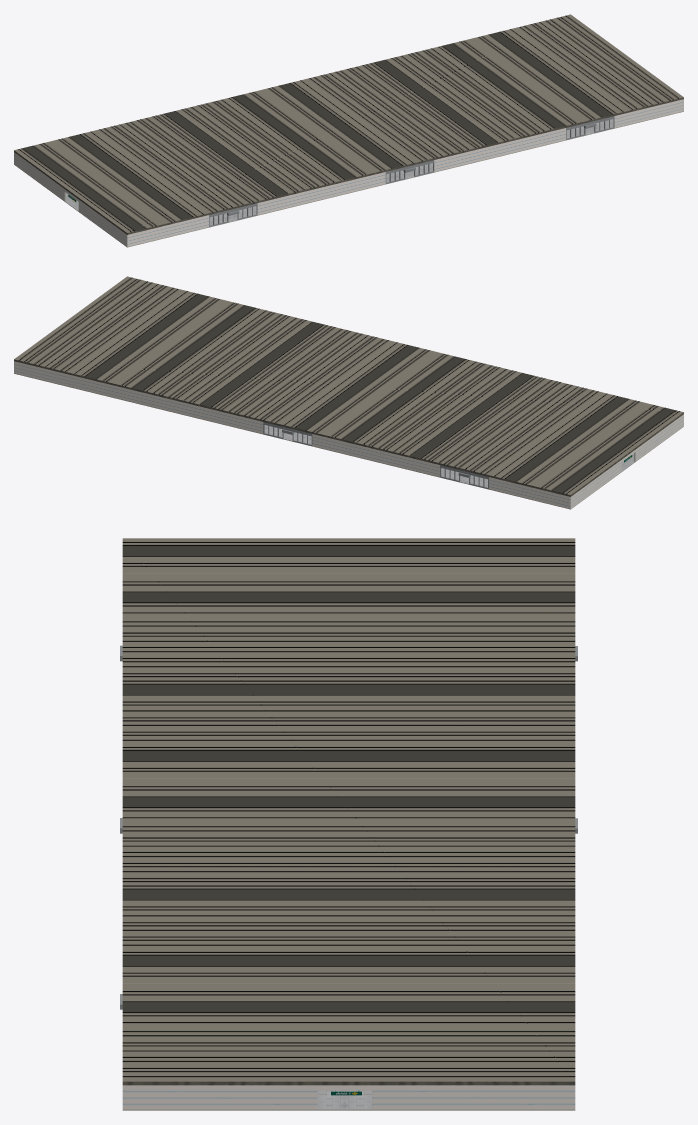
File: WITH.obj
The picture shows the model from 3 angles, top to bottom: view 1: azimuth 30°, elevation 25°; view 2: azimuth 150°, elevation 25°; view 3: azimuth 270°, elevation 25°; orthographic projection. The views are drawn at different scales.
Parts seen in each view (by area): view 1: Mesh230 Component_13_1 Model, Mesh224 Component_12_1 Model, Mesh375 Component_21_1 Model, Mesh371 Component_20_1 Model, Mesh373 Component_19_1 Model, Mesh369 Component_22_1 Model, Mesh219 Component_15_1 Model, Mesh221 Component_2_1 Model; view 2: Mesh230 Component_13_1 Model, Mesh361 Component_23_1 Model, Mesh363 Component_14_1 Model, Mesh224 Component_12_1 Model, Mesh365 Component_18_1 Model, Mesh367 Component_11_1 Model, Mesh219 Component_15_1 Model, Mesh221 Component_2_1 Model; view 3: Mesh230 Component_13_1 Model, Mesh228 Component_15_2 Model, Mesh226 Component_24_1 Model, Mesh224 Component_12_1 Model.
Boxes of the visible parts, box(x1,y1,x2,y2) form: Mesh230 Component_13_1 Model: box(14, 14, 683, 234); Mesh224 Component_12_1 Model: box(14, 111, 683, 247); Mesh375 Component_21_1 Model: box(434, 128, 565, 171); Mesh371 Component_20_1 Model: box(257, 172, 385, 214); Mesh373 Component_19_1 Model: box(126, 215, 208, 246); Mesh369 Component_22_1 Model: box(614, 99, 683, 127); Mesh219 Component_15_1 Model: box(64, 189, 126, 246); Mesh221 Component_2_1 Model: box(14, 153, 65, 200); Mesh230 Component_13_1 Model: box(14, 276, 683, 496); Mesh361 Component_23_1 Model: box(83, 378, 263, 433); Mesh363 Component_14_1 Model: box(312, 434, 439, 476); Mesh224 Component_12_1 Model: box(14, 373, 683, 509); Mesh365 Component_18_1 Model: box(489, 477, 571, 508); Mesh367 Component_11_1 Model: box(14, 361, 82, 389); Mesh219 Component_15_1 Model: box(621, 415, 683, 461); Mesh221 Component_2_1 Model: box(571, 460, 621, 508); Mesh230 Component_13_1 Model: box(122, 538, 575, 1085); Mesh228 Component_15_2 Model: box(124, 1085, 372, 1109); Mesh226 Component_24_1 Model: box(372, 1085, 573, 1109); Mesh224 Component_12_1 Model: box(122, 1090, 575, 1110).
Bounding box in the file's own units: 229 × 5.66 × 81.55.
Materials: 44 (43 with a texture image).
